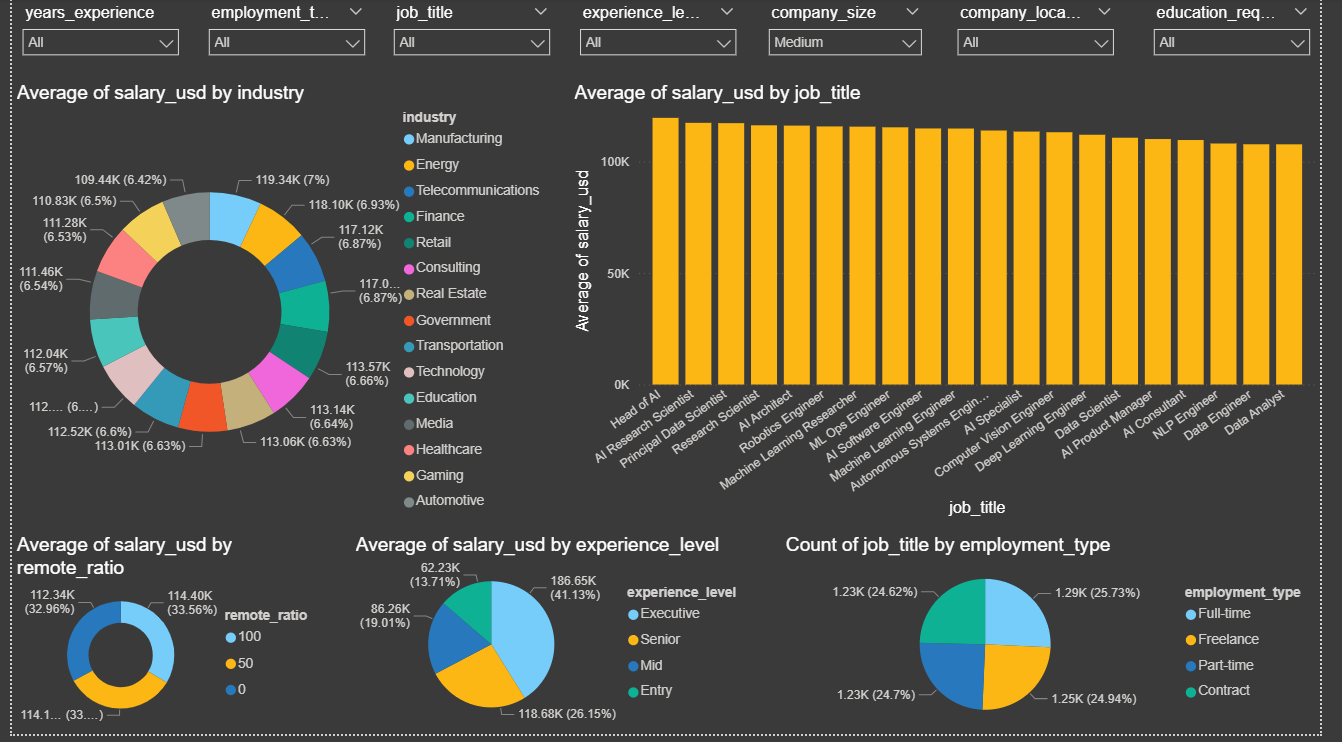

This screenshot's page, from the dashboard's own definition file:
{"tool":"powerbi","page":{"name":"Page 1","canvas":[1280,720],"ordinal":0},"visuals":[{"type":"slicer","fields":{"Values":["final_jobs_data (1).experience_level"]},"box":[545,0,173.3,65],"z":0},{"type":"slicer","fields":{"Values":["final_jobs_data (1).years_experience"]},"box":[0,0,173.3,65],"z":1000},{"type":"slicer","fields":{"Values":["final_jobs_data (1).employment_type"]},"box":[181.7,0,173.3,65],"z":2000},{"type":"slicer","fields":{"Values":["final_jobs_data (1).education_required"]},"box":[1106.7,0,173.3,65],"z":3000},{"type":"slicer","fields":{"Values":["final_jobs_data (1).job_title"]},"box":[363.3,0,173.3,65],"z":4000},{"type":"slicer","fields":{"Values":["final_jobs_data (1).company_size"]},"box":[730,0,170,65],"z":5000},{"type":"clusteredColumnChart","fields":{"Category":["final_jobs_data (1).job_title"],"Y":["Avg(final_jobs_data (1).salary_usd)"]},"box":[545,81.7,735,430],"z":6000},{"type":"donutChart","fields":{"Category":["final_jobs_data (1).remote_ratio"],"Y":["Avg(final_jobs_data (1).salary_usd)"]},"box":[0,525,310,195],"z":7000},{"type":"pieChart","fields":{"Category":["final_jobs_data (1).experience_level"],"Y":["Avg(final_jobs_data (1).salary_usd)"]},"box":[331.7,525,398.3,195],"z":8000},{"type":"donutChart","fields":{"Category":["final_jobs_data (1).industry"],"Y":["Avg(final_jobs_data (1).salary_usd)"]},"box":[0,81.7,530,430],"z":9000},{"type":"slicer","fields":{"Values":["final_jobs_data (1).company_location"]},"box":[915,0,173.3,65],"z":10000},{"type":"pieChart","fields":{"Category":["final_jobs_data (1).employment_type"],"Y":["CountNonNull(final_jobs_data (1).job_title)"]},"box":[751.7,525,528.3,195],"z":11000}]}

Visuals, with their boxes in screenshot pixels (x1, y1, x2, y2), scaled from the page's 1280x720 canvas onto the 1342x742 screenshot:
slicer - final_jobs_data (1).experience_level: box(571, 0, 753, 67)
slicer - final_jobs_data (1).years_experience: box(0, 0, 182, 67)
slicer - final_jobs_data (1).employment_type: box(191, 0, 372, 67)
slicer - final_jobs_data (1).education_required: box(1160, 0, 1341, 67)
slicer - final_jobs_data (1).job_title: box(381, 0, 563, 67)
slicer - final_jobs_data (1).company_size: box(765, 0, 944, 67)
clusteredColumnChart - final_jobs_data (1).job_title x Avg(final_jobs_data (1).salary_usd): box(571, 84, 1341, 527)
donutChart - final_jobs_data (1).remote_ratio x Avg(final_jobs_data (1).salary_usd): box(0, 541, 325, 741)
pieChart - final_jobs_data (1).experience_level x Avg(final_jobs_data (1).salary_usd): box(348, 541, 765, 741)
donutChart - final_jobs_data (1).industry x Avg(final_jobs_data (1).salary_usd): box(0, 84, 556, 527)
slicer - final_jobs_data (1).company_location: box(959, 0, 1141, 67)
pieChart - final_jobs_data (1).employment_type x CountNonNull(final_jobs_data (1).job_title): box(788, 541, 1341, 741)
